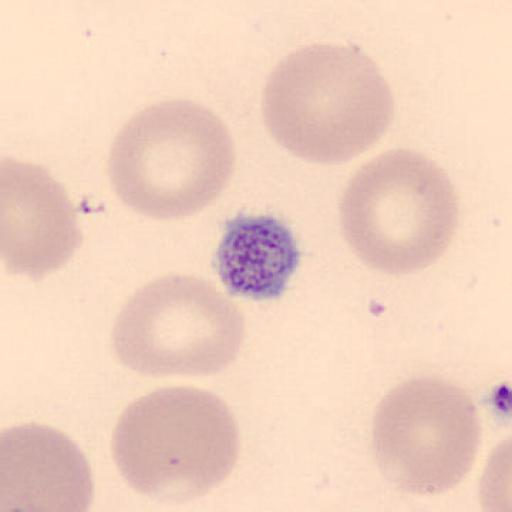Platelet: (210, 209, 305, 304)
RBC: (259, 39, 397, 168), (104, 97, 237, 222), (337, 146, 461, 279), (110, 383, 243, 507), (109, 272, 249, 381), (370, 375, 484, 497), (1, 154, 84, 282), (2, 420, 96, 512), (479, 379, 512, 512), (478, 434, 512, 512)
